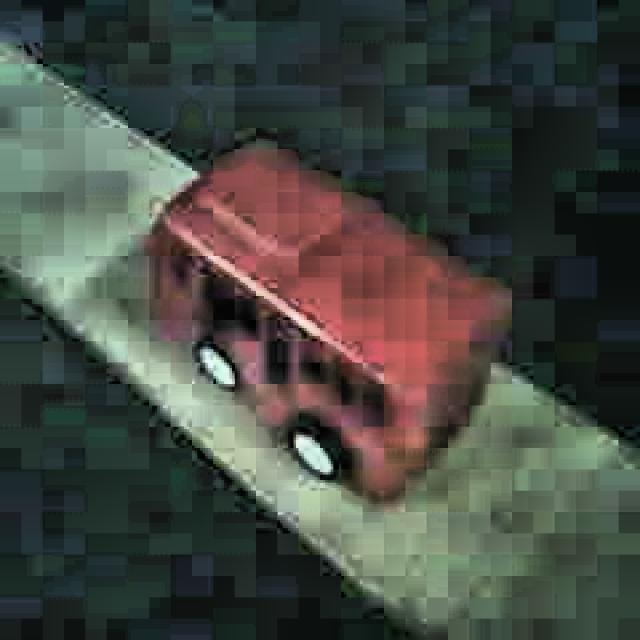bus: (140, 135, 514, 510)
